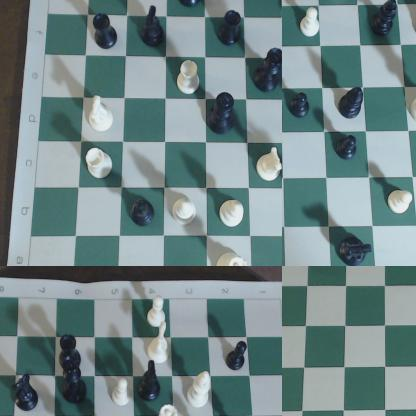black-bishop: (373, 1, 398, 43), (341, 85, 367, 124), (132, 200, 159, 227)
black-king: (210, 92, 239, 136)
black-knight: (340, 231, 378, 266), (13, 375, 43, 416), (141, 5, 167, 49), (140, 361, 162, 405)
black-pawn: (330, 135, 365, 170), (226, 339, 256, 375), (295, 91, 317, 127)
black-queen: (63, 359, 89, 407), (259, 45, 282, 97), (177, 1, 205, 14)
black-rook: (90, 7, 122, 52), (220, 5, 247, 52), (57, 334, 86, 371)
white-bishop: (188, 373, 213, 409), (171, 198, 198, 231), (220, 198, 244, 231)
white-knight: (145, 321, 175, 367), (86, 95, 114, 134), (255, 146, 282, 185)
white-pawn: (298, 8, 326, 45), (388, 183, 416, 217), (111, 377, 132, 410), (147, 293, 167, 327)
white-queen: (212, 250, 253, 266), (149, 404, 181, 416)
white-rook: (83, 148, 119, 182), (176, 59, 206, 95)
